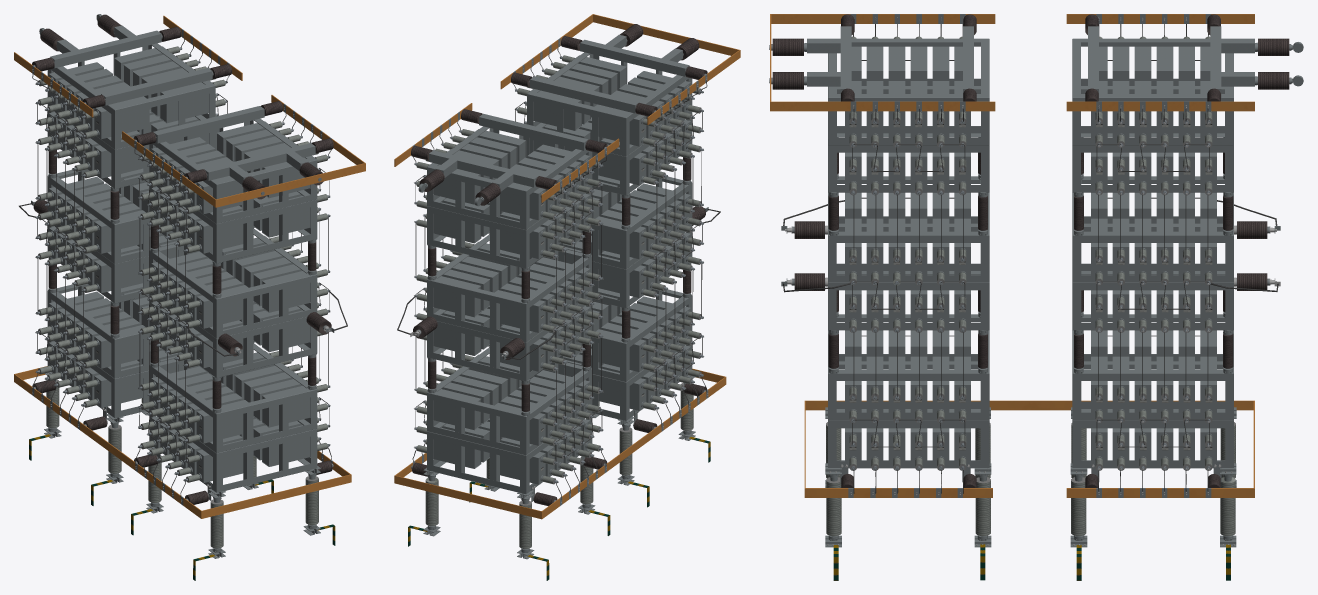
The model's file is DLDRQ.glb.
3 views of the same model, side by side, from view 1: azimuth 30°, elevation 25°; view 2: azimuth 150°, elevation 25°; view 3: azimuth 270°, elevation 25° (orthographic). The views are drawn at different scales.
Visible parts, largest first — view 1: SM_DLDRQ_09M00180060006821; view 2: SM_DLDRQ_09M00180060006821; view 3: SM_DLDRQ_09M00180060006821.
Boxes of the visible parts, box(x1,y1,x2,y2) form: SM_DLDRQ_09M00180060006821: box(14, 14, 365, 580); SM_DLDRQ_09M00180060006821: box(394, 14, 740, 580); SM_DLDRQ_09M00180060006821: box(769, 14, 1303, 580).
Size of the model in its own units: 2.66 by 6.72 by 6.73.
10 materials, 10 textured.
